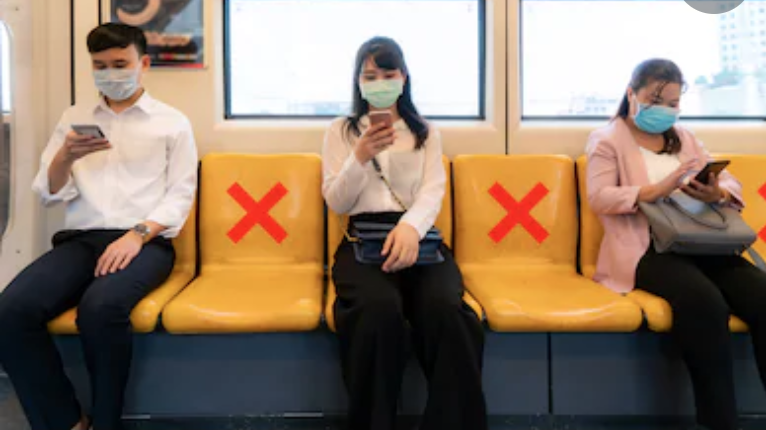Caution: (5, 17, 462, 422), (333, 35, 753, 430)
